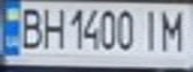0: (115, 7, 139, 52), (100, 6, 118, 52)
1: (63, 4, 84, 50)
4: (81, 6, 100, 51)
B: (15, 3, 45, 51)
H: (39, 4, 66, 51)
I: (139, 6, 163, 53)
M: (157, 6, 190, 53)
